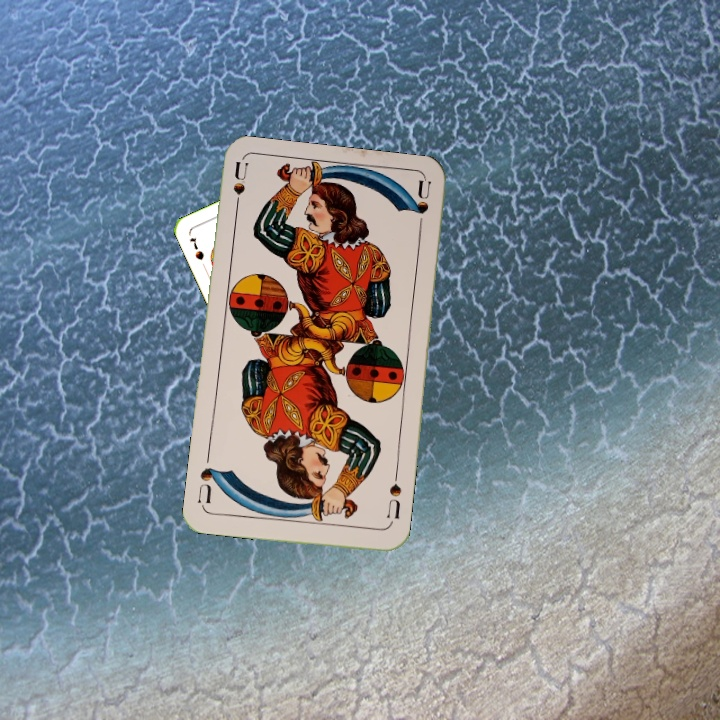S7: (186, 233, 207, 263)
SU: (229, 159, 250, 219), (383, 469, 404, 528)
